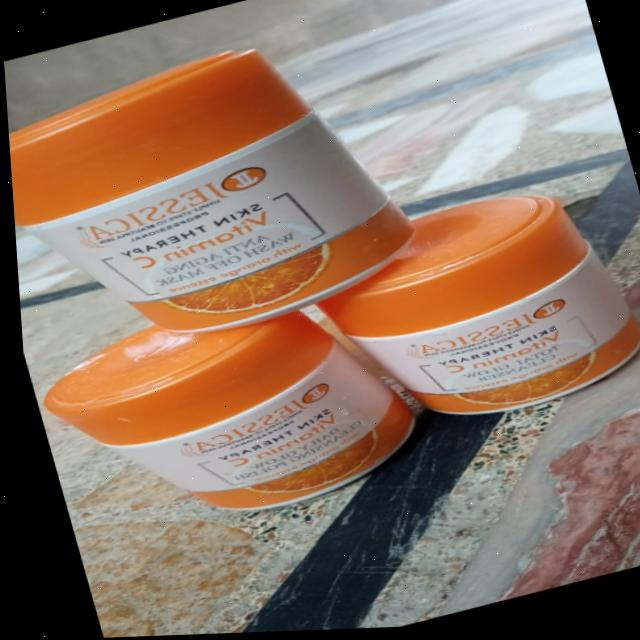lotion: (1, 1, 405, 373), (14, 257, 406, 577), (312, 142, 640, 470)
